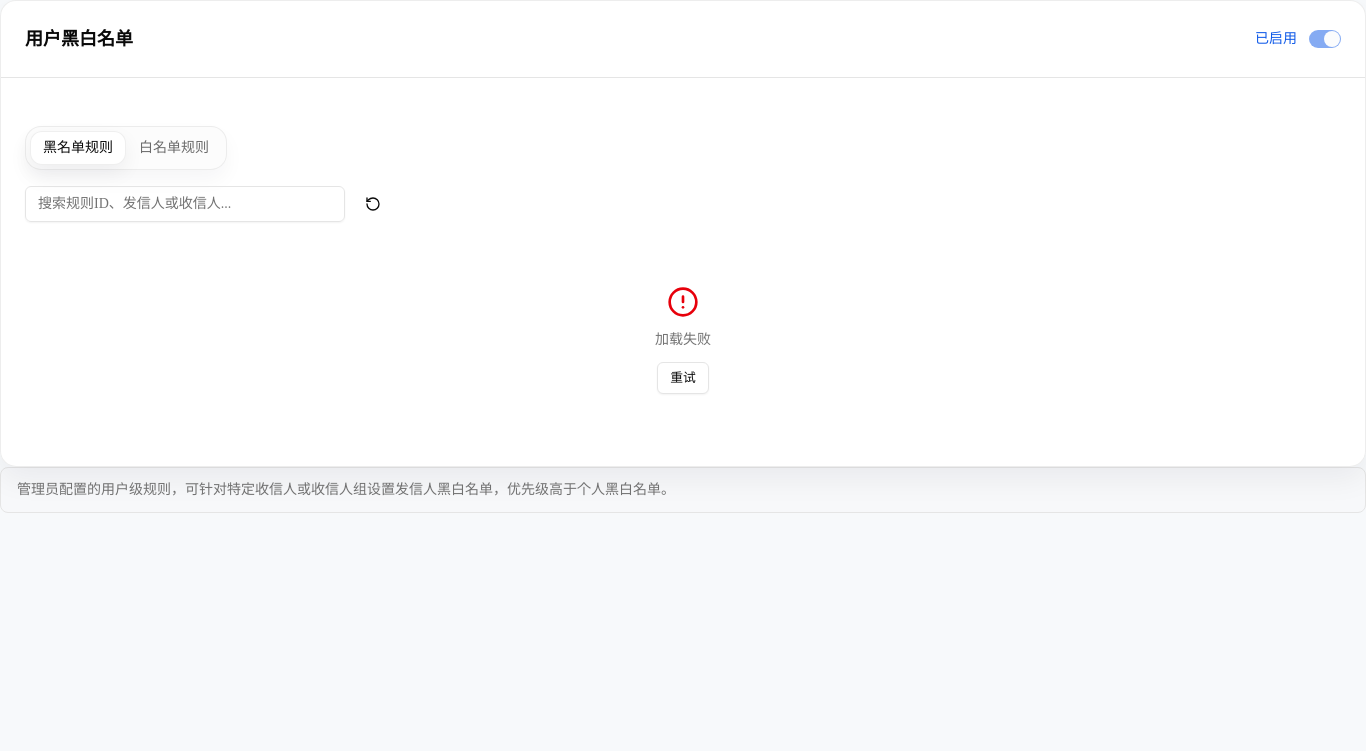
it: UserListPage › 首次加载失败立即显示错误，并允许手动重试（GT-12153）
Expected: the text "加载失败" is shown, [655, 330, 711, 350]
Click the button "重试".
click(683, 378)  # box [657, 362, 709, 394]
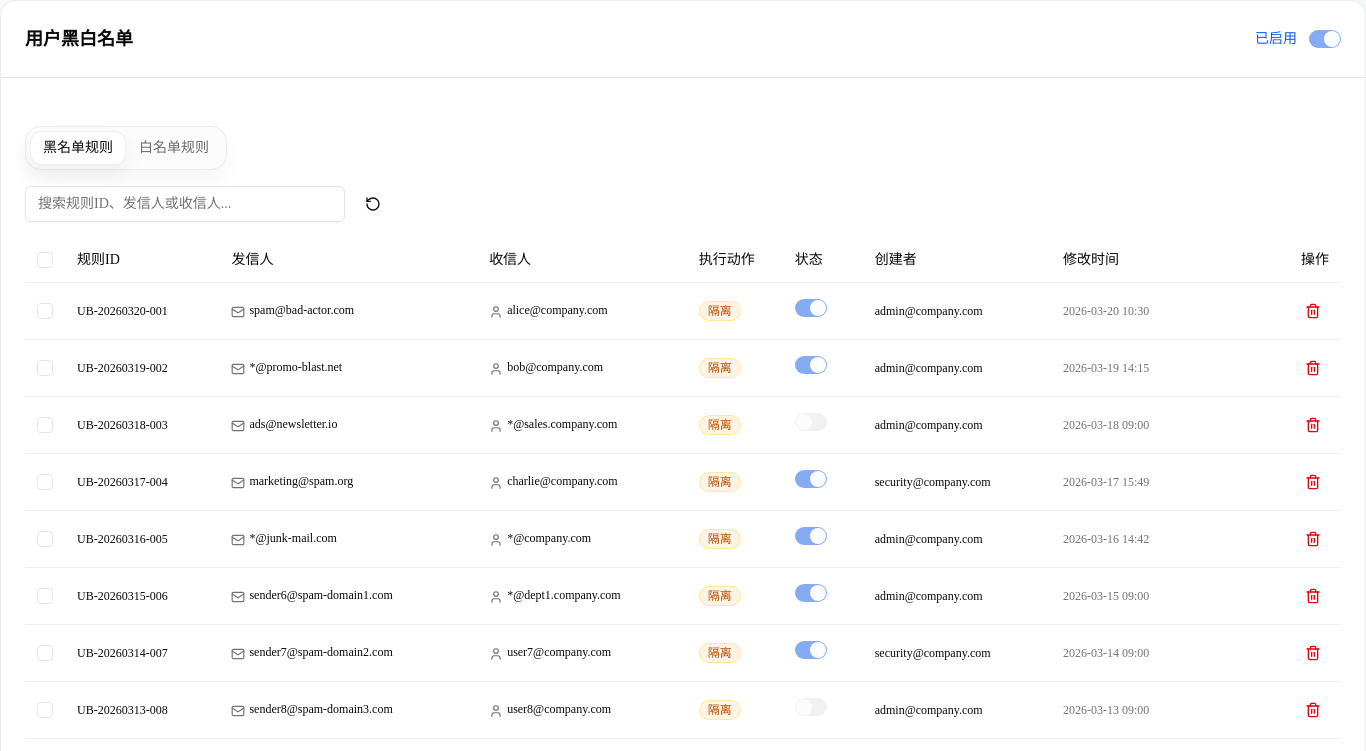
Expected: the text "UB-20260320-001" is shown, [65, 282, 219, 339]
